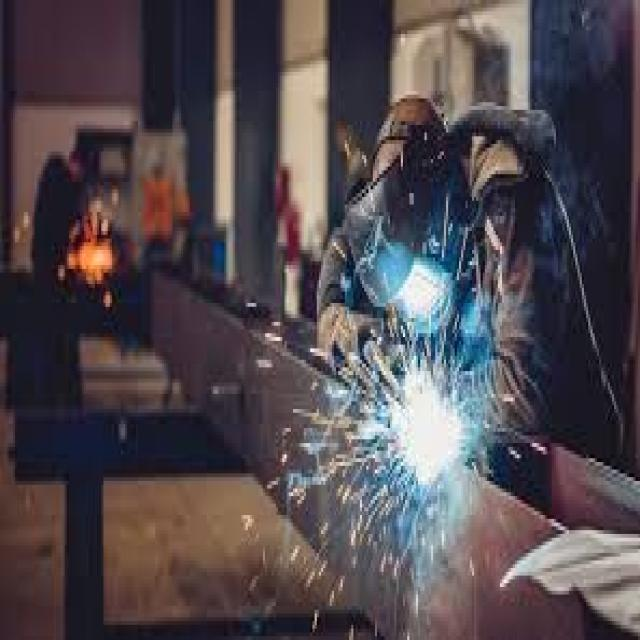with_helmet: (324, 77, 491, 356)
